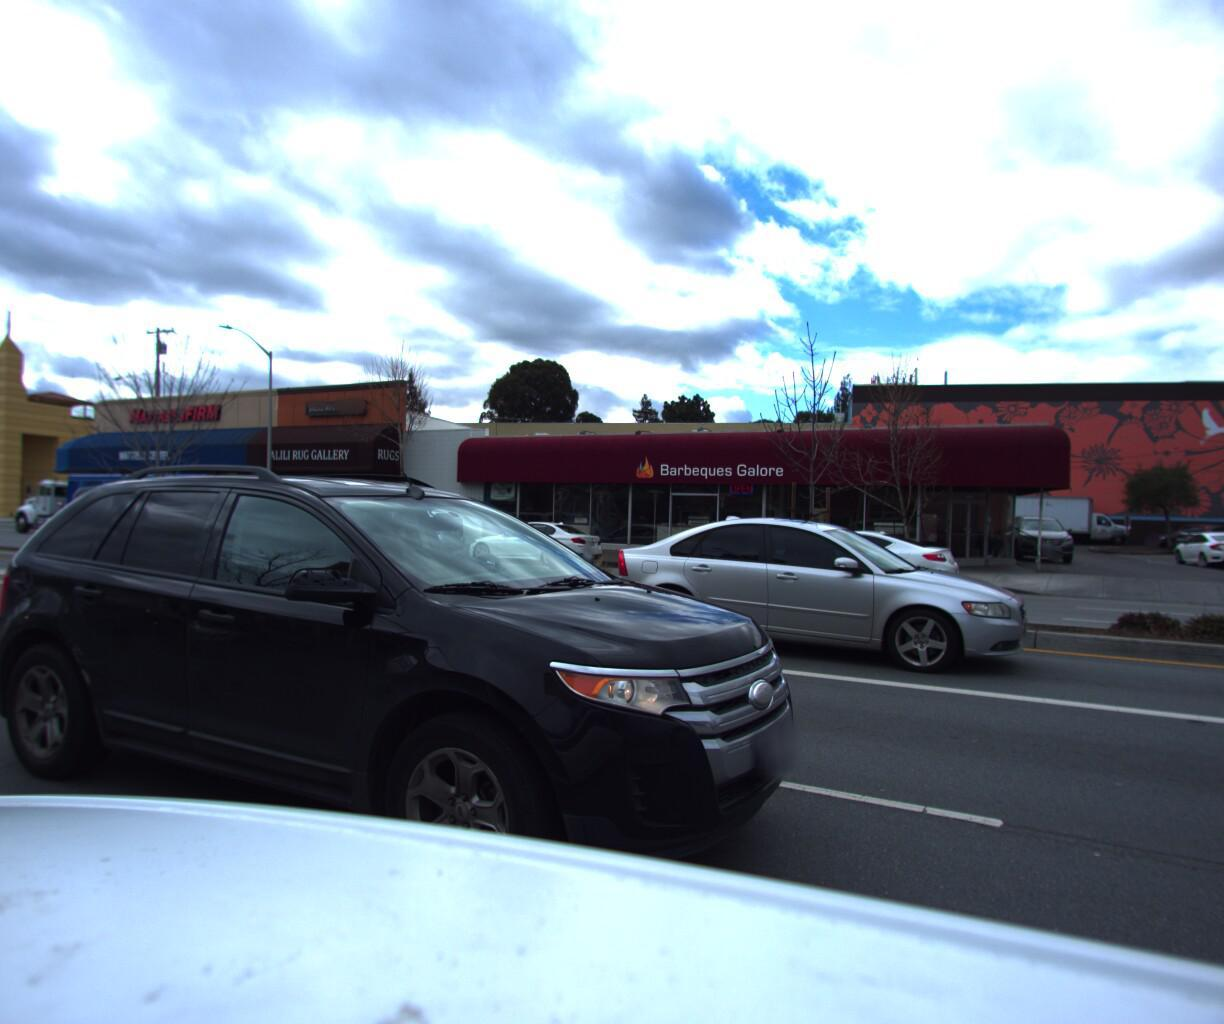car: (0, 425, 820, 981), (592, 500, 1035, 682), (752, 516, 972, 594), (461, 510, 608, 561), (1219, 527, 1224, 576)
truck: (8, 471, 259, 539)
